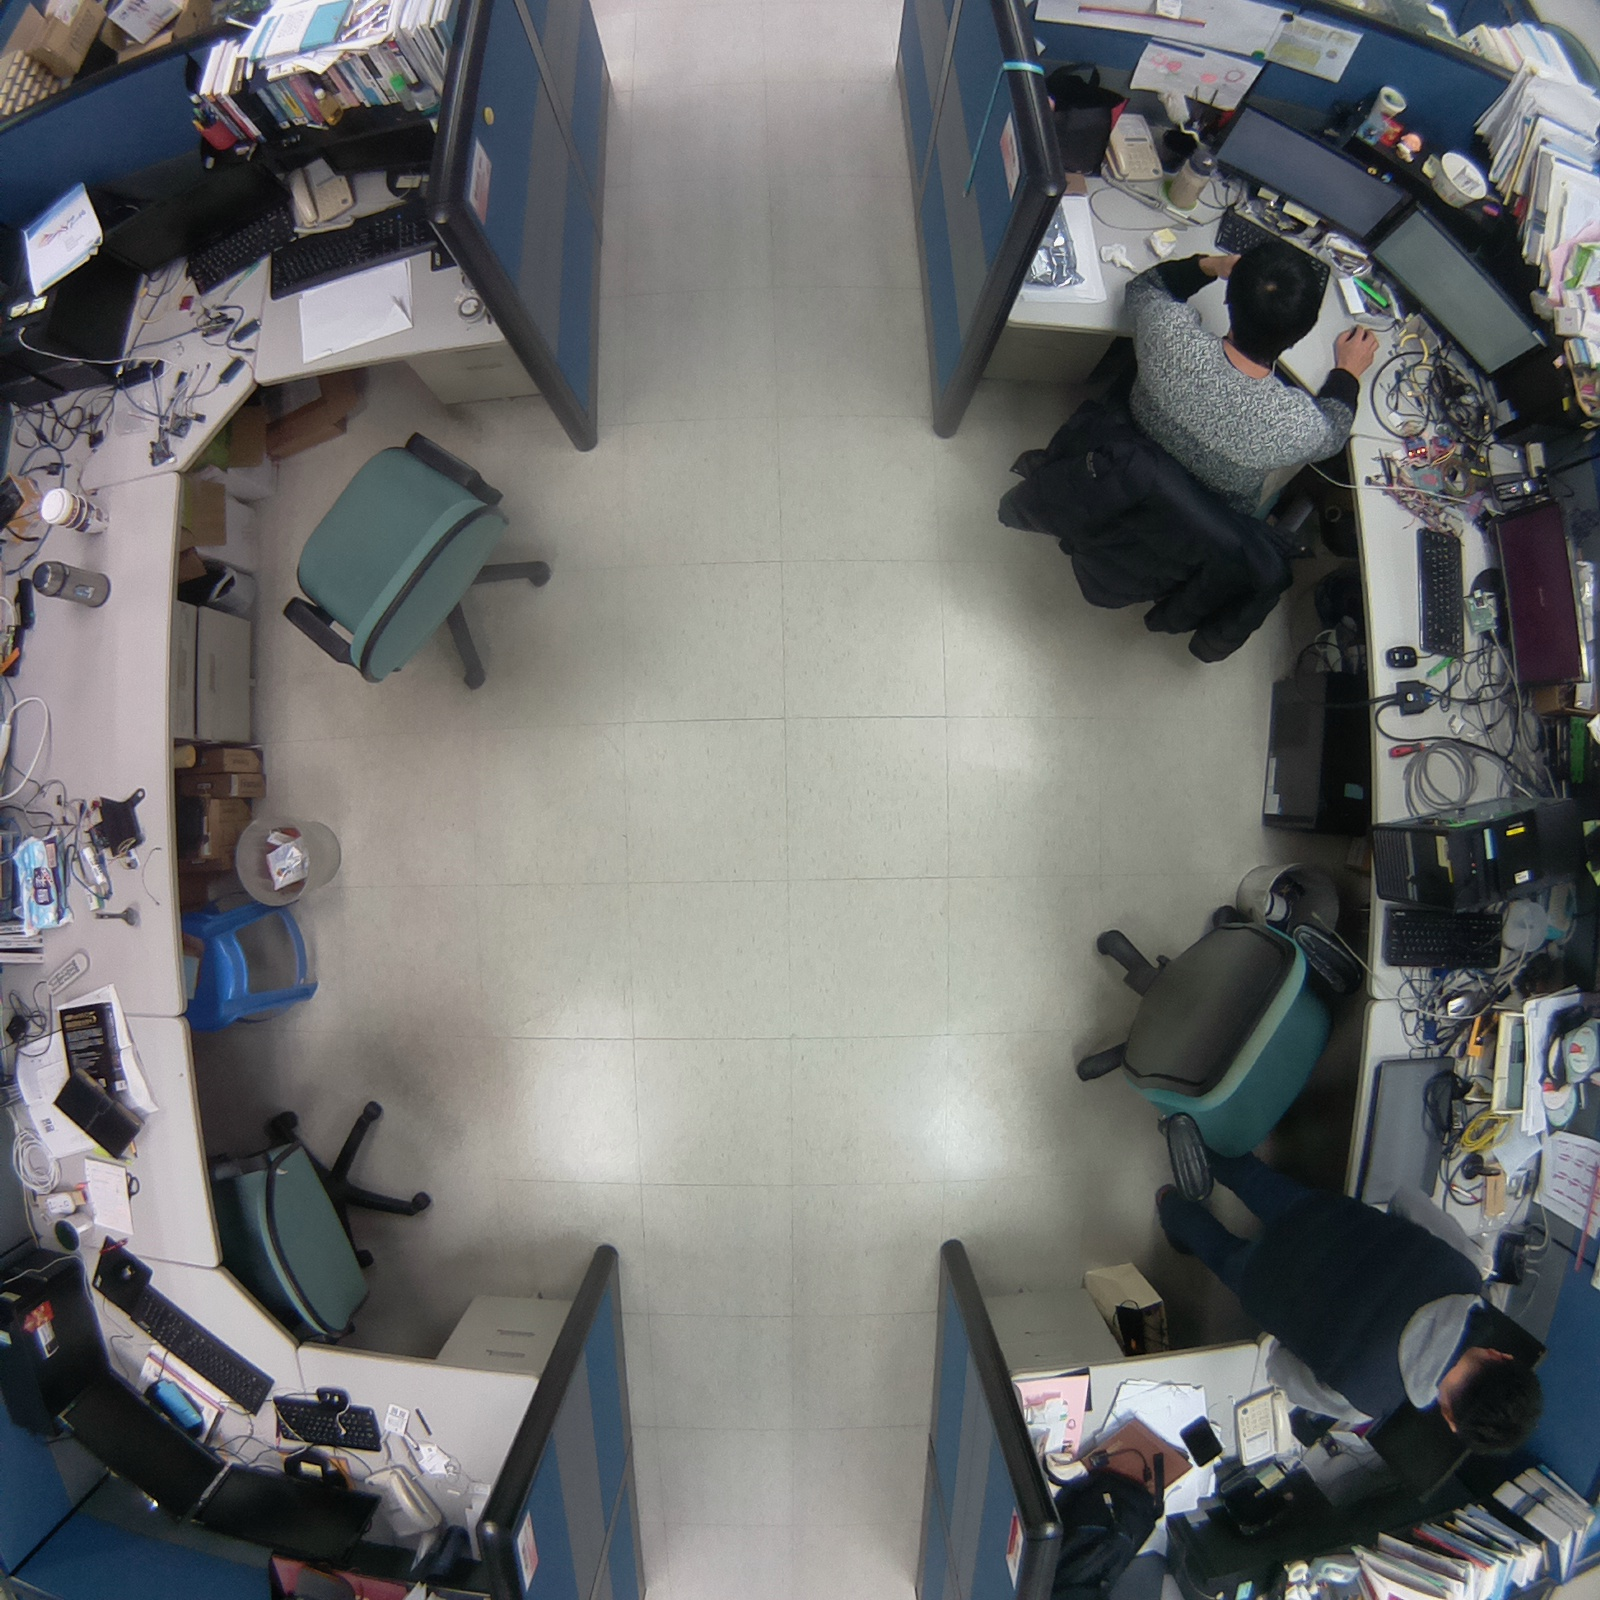chair: (1065, 873, 1386, 1219), (268, 393, 601, 719), (199, 1063, 458, 1355)
head: (1432, 1331, 1551, 1470), (1215, 236, 1327, 359)
sitting: (981, 229, 1382, 678)
standing: (1145, 1121, 1556, 1471)
